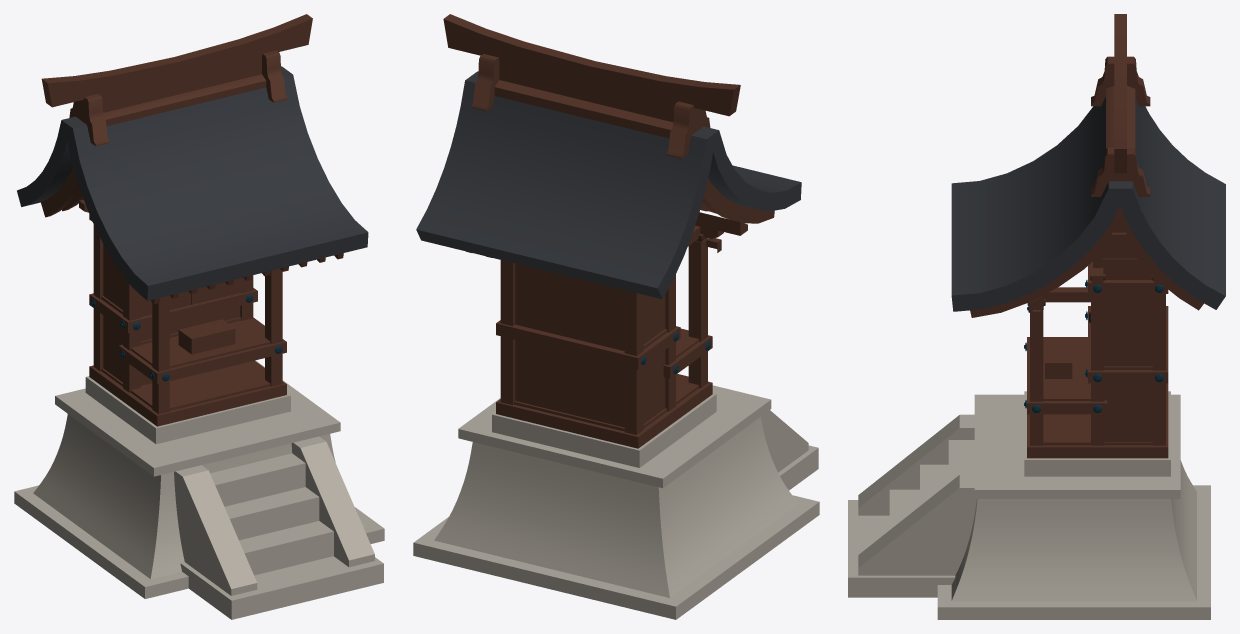
The model's file is Tower.FBX.
3 renders of one model, left to right at view 1: azimuth 30°, elevation 25°; view 2: azimuth 150°, elevation 25°; view 3: azimuth 270°, elevation 25°, orthographic. The views are drawn at different scales.
Visible parts, largest first — view 1: Temple; view 2: Temple; view 3: Temple.
Part boxes in pixels (box(x1,y1,x2,y2)): Temple: box(14, 14, 384, 619); Temple: box(413, 14, 819, 619); Temple: box(848, 14, 1225, 619).
Bounding box in the file's own units: 225 × 371 × 266.
1 material, 1 textured.
